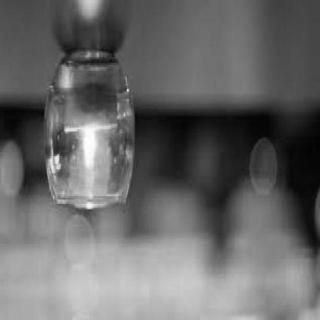Fire: (72, 117, 105, 184)
